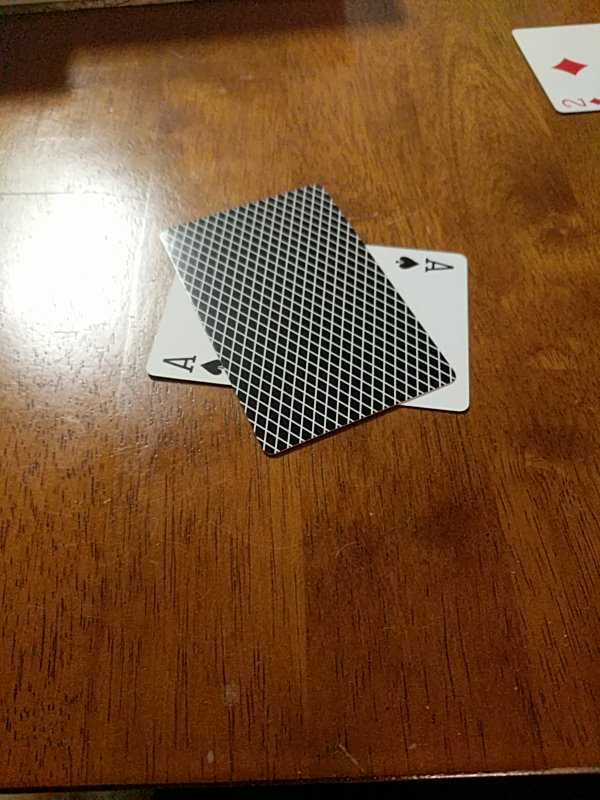Spades: (148, 239, 470, 414)
